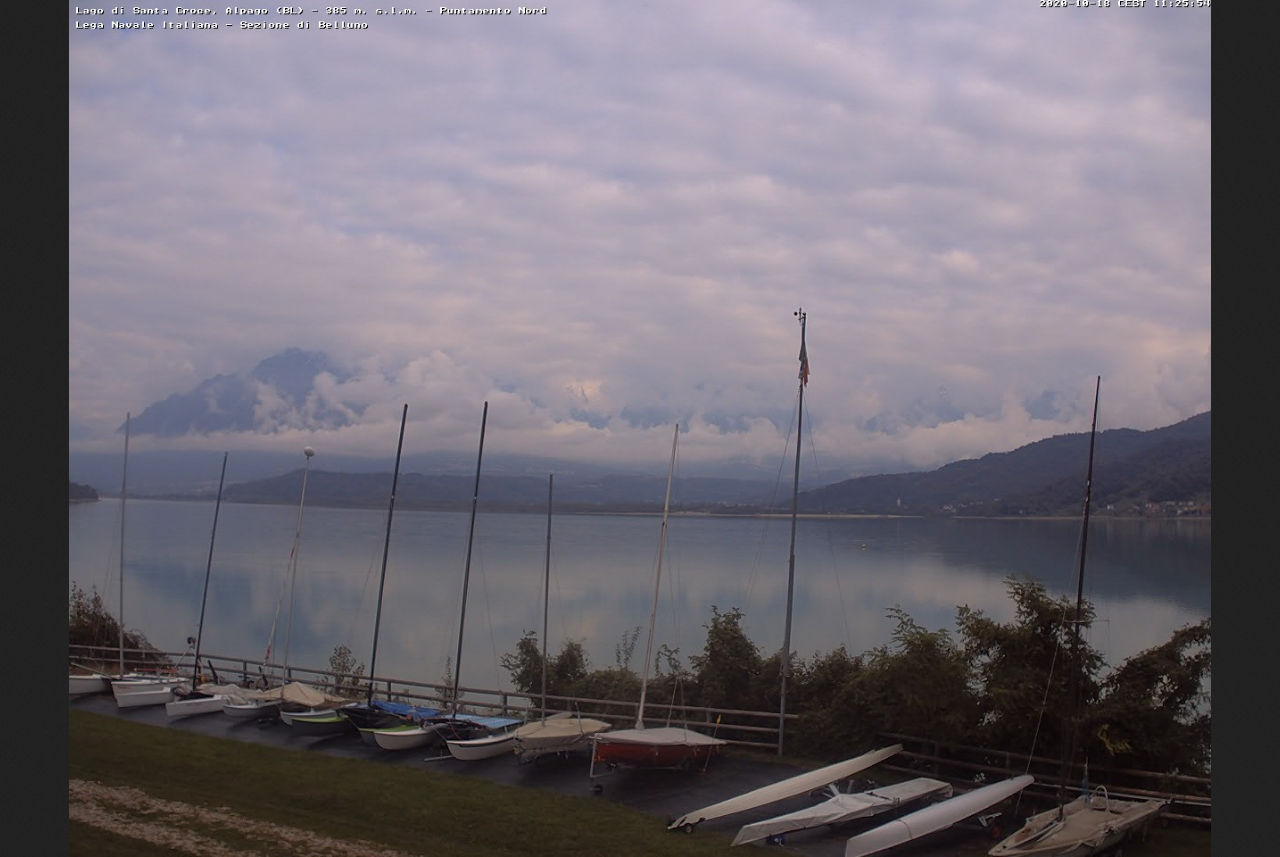no: (796, 331, 813, 389)
